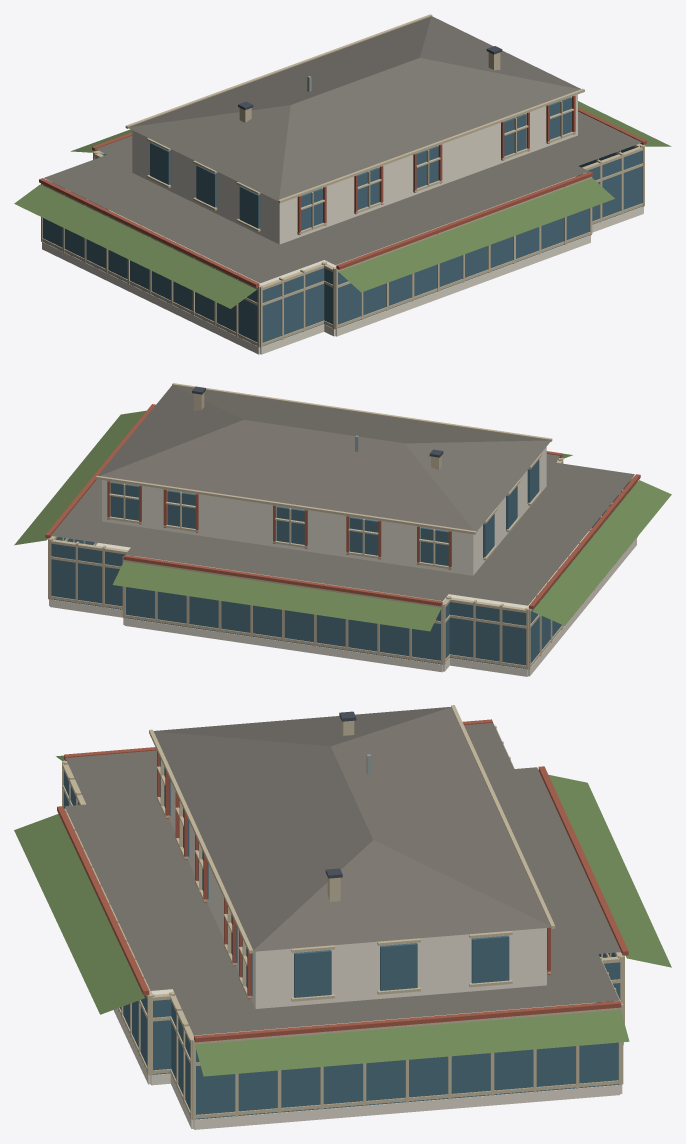
Rendered from groot-melkhuis.glb.
3 renders of one model, top to bottom at view 1: azimuth 30°, elevation 25°; view 2: azimuth 150°, elevation 25°; view 3: azimuth 270°, elevation 25°, orthographic. The views are drawn at different scales.
Visible parts, largest first — view 1: groot-melkhuis; view 2: groot-melkhuis; view 3: groot-melkhuis.
Boxes of the visible parts, x1,y1,x2,y2 form: groot-melkhuis: (14,14,671,354); groot-melkhuis: (14,383,671,676); groot-melkhuis: (14,705,671,1129).
Bounding box in the file's own units: 30.2 × 8 × 23.63.
